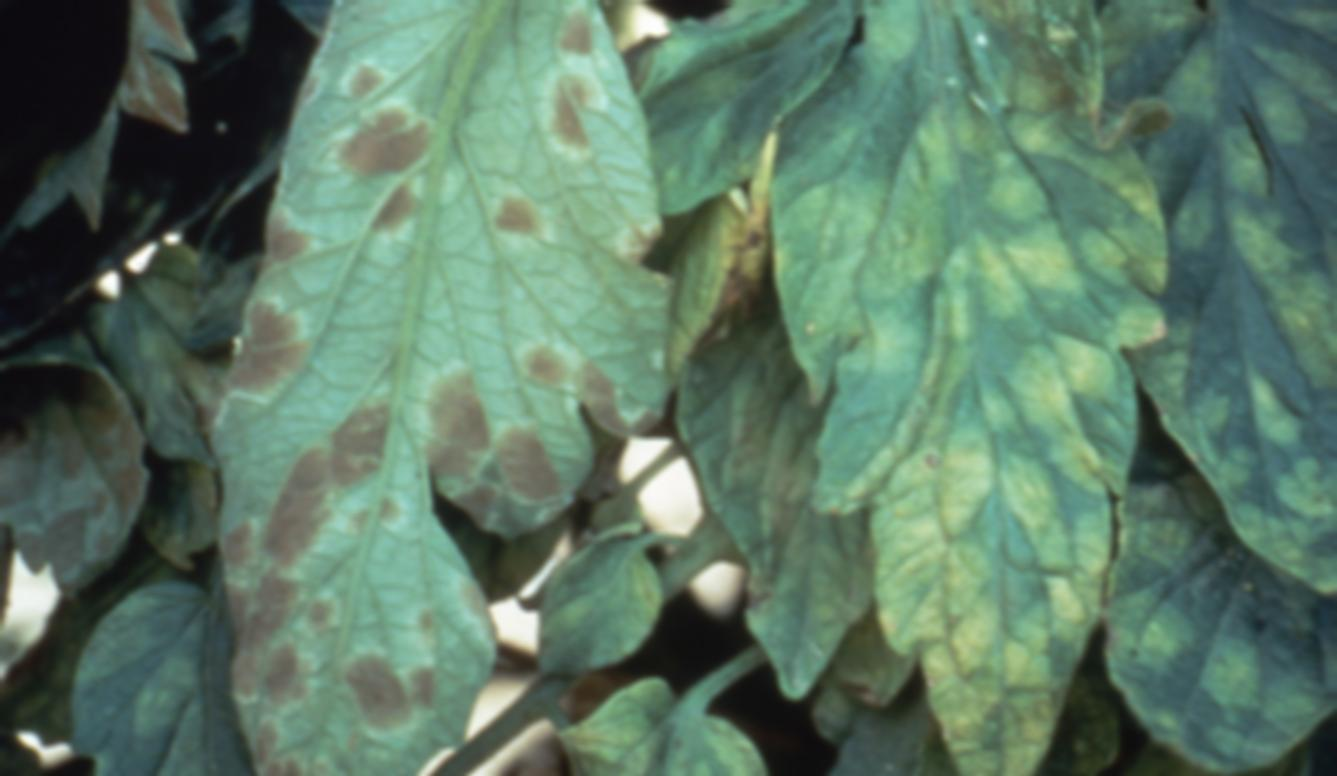Tomato mold leaf: (193, 0, 673, 776), (782, 0, 1184, 776), (1076, 0, 1337, 652), (535, 675, 778, 776)
